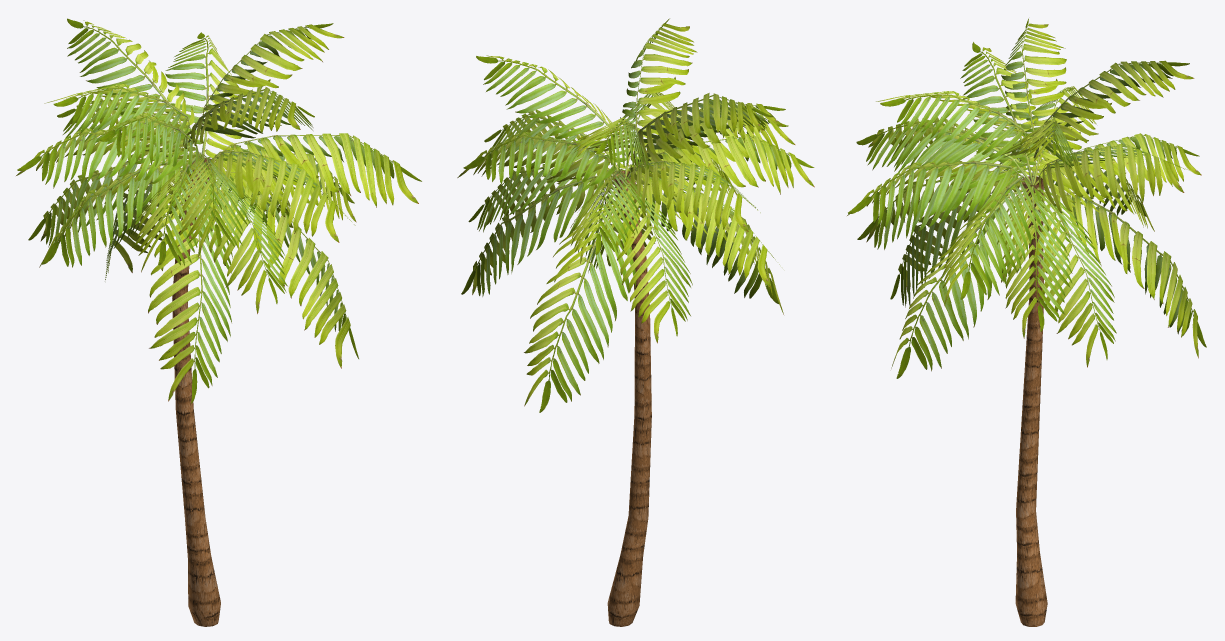
Rendered from palm trees.dae.
The picture shows the model from 3 angles, left to right: view 1: azimuth 30°, elevation 25°; view 2: azimuth 150°, elevation 25°; view 3: azimuth 270°, elevation 25°; orthographic projection. The views are drawn at different scales.
Visible parts, largest first — view 1: Plane_014, Cylinder; view 2: Plane_014, Cylinder; view 3: Plane_014, Cylinder.
Boxes of the visible parts, box(x1,y1,x2,y2) form: Plane_014: box(16, 18, 421, 403); Cylinder: box(172, 157, 220, 626); Plane_014: box(457, 18, 814, 412); Cylinder: box(607, 171, 651, 626); Plane_014: box(847, 18, 1206, 378); Cylinder: box(1015, 176, 1047, 626).
Size of the model in its own units: 11.05 by 10.54 by 17.15.
